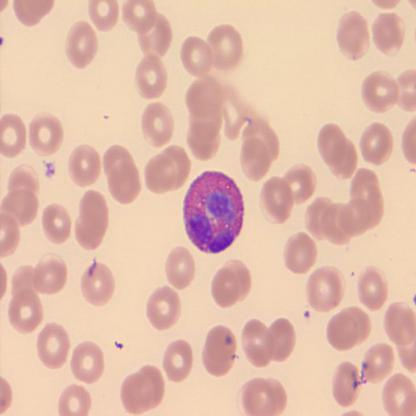Eosinophil: (180, 167, 246, 256)
